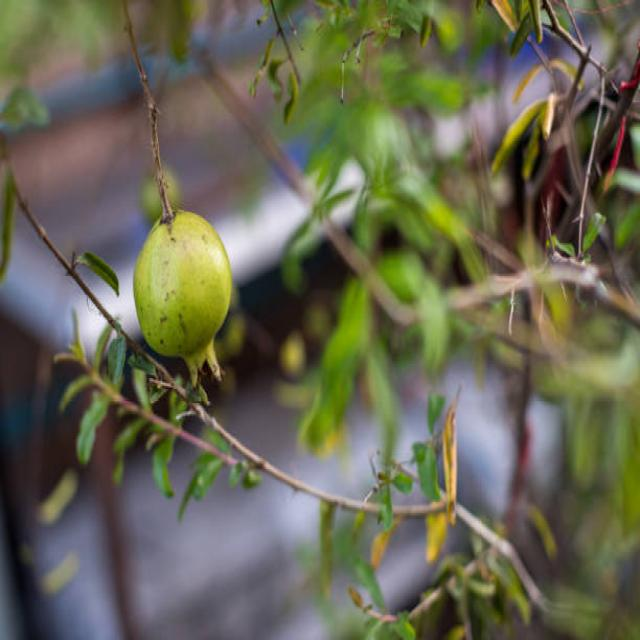Unripe: (134, 204, 234, 383)
